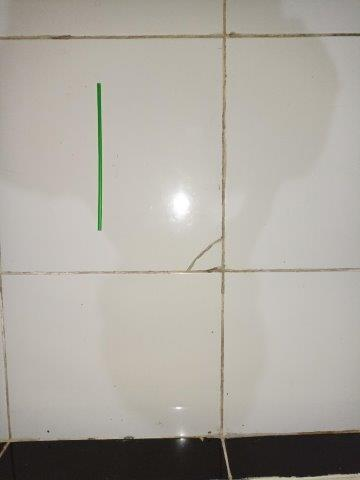sedotan: (97, 82, 102, 230)
